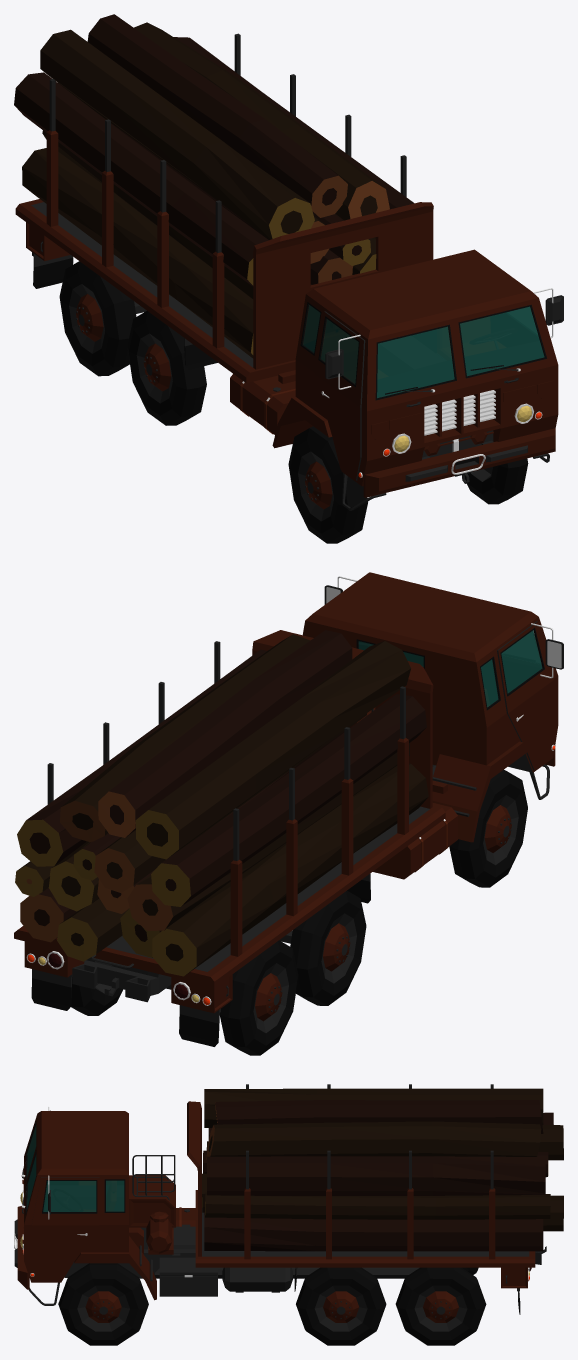
The model's file is LoggingTruck_01.FBX.
The picture shows the model from 3 angles, top to bottom: view 1: azimuth 30°, elevation 25°; view 2: azimuth 150°, elevation 25°; view 3: azimuth 270°, elevation 25°; orthographic projection. The views are drawn at different scales.
Visible parts, largest first — view 1: LoggingTruck_01, truckBed, log_15, log_14, log_09, log_01, interior, log_13, wheel_b2_r, wheel_b1_r, wheel_f_r, bumper (+7 smaller); view 2: LoggingTruck_01, truckBed, log_15, log_09, log_01, log_14, log_13, wheel_b2_r, wheel_b1_r, wheel_f_r, log_11, log_05 (+12 smaller); view 3: LoggingTruck_01, log_11, log_13, log_04, truckBed, log_07, log_14, wheel_f_l, wheel_b1_l, wheel_b2_l, log_15, interior (+6 smaller).
Boxes of the visible parts, <box> form: LoggingTruck_01: <box>134,249,558,510</box>; truckBed: <box>15,33,433,383</box>; log_15: <box>40,29,314,239</box>; log_14: <box>87,14,347,217</box>; log_09: <box>14,72,268,286</box>; log_01: <box>22,148,253,358</box>; interior: <box>303,305,543,397</box>; log_13: <box>134,22,389,220</box>; wheel_b2_r: <box>59,261,136,376</box>; wheel_b1_r: <box>127,311,206,425</box>; wheel_f_r: <box>288,426,367,543</box>; bumper: <box>363,428,555,497</box>; LoggingTruck_01: <box>72,572,558,1002</box>; truckBed: <box>14,630,445,1046</box>; log_15: <box>135,641,410,859</box>; log_09: <box>151,694,426,906</box>; log_01: <box>152,763,428,976</box>; log_14: <box>98,630,352,837</box>; log_13: <box>60,634,310,842</box>; wheel_b2_r: <box>219,940,298,1055</box>; wheel_b1_r: <box>290,890,366,1005</box>; wheel_f_r: <box>449,769,527,887</box>; log_11: <box>17,649,266,866</box>; log_05: <box>127,743,409,930</box>; LoggingTruck_01: <box>22,1111,546,1305</box>; log_11: <box>207,1156,545,1195</box>; log_13: <box>206,1121,541,1159</box>; log_04: <box>204,1212,543,1251</box>; truckBed: <box>187,1084,535,1314</box>; log_07: <box>205,1192,550,1219</box>; log_14: <box>215,1100,543,1133</box>; wheel_f_l: <box>58,1263,148,1345</box>; wheel_b1_l: <box>296,1267,386,1345</box>; wheel_b2_l: <box>395,1267,486,1345</box>; log_15: <box>204,1088,543,1127</box>; interior: <box>27,1128,123,1211</box>.
Bounding box in the file's own units: 32.23 × 37.21 × 87.67.
